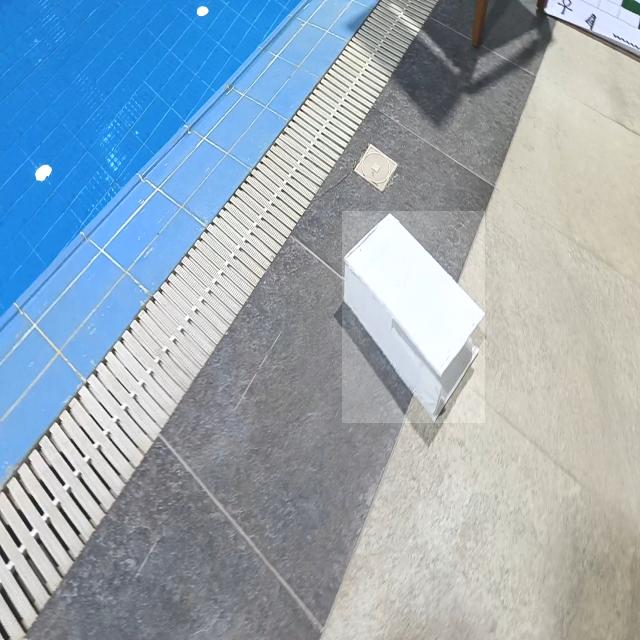Cuboid: (342, 212, 485, 424)
